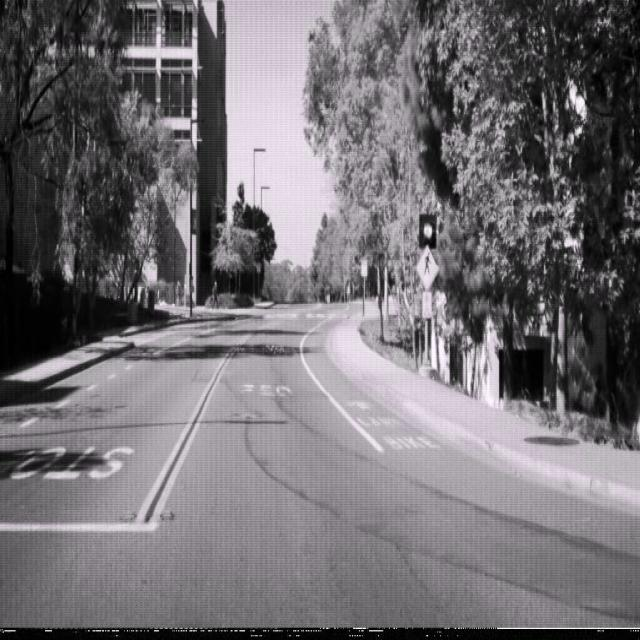pedestrianCrossing: (416, 243, 440, 289)
